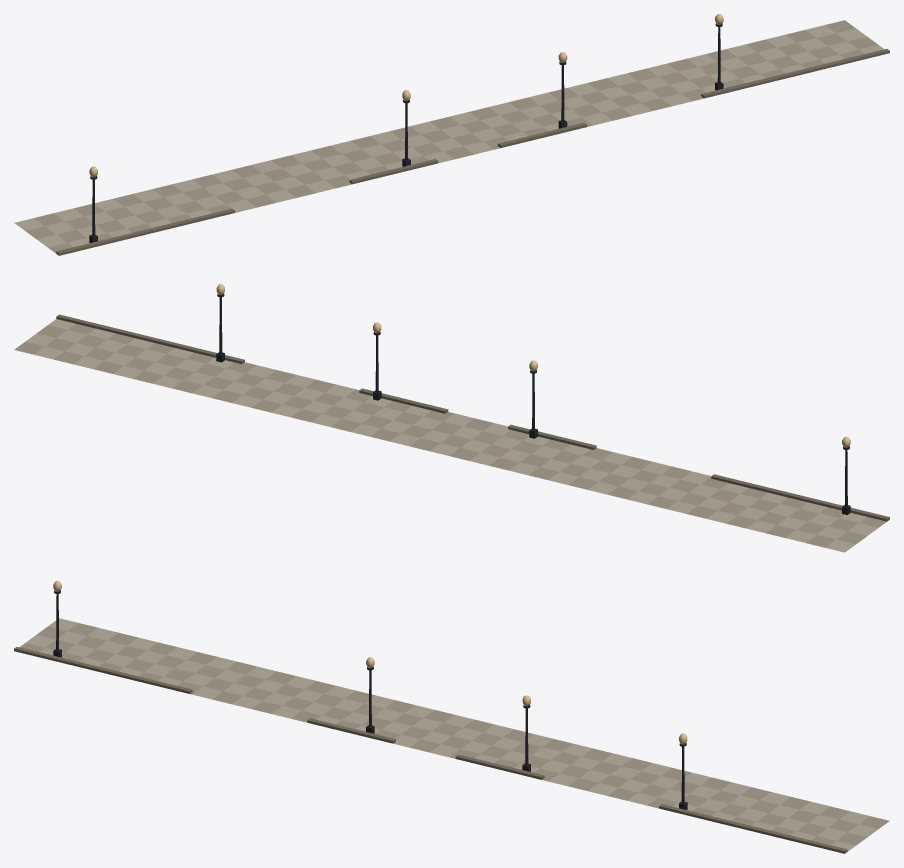
Rendered from street.glb.
3 views of the same model, one above another, from view 1: azimuth 30°, elevation 25°; view 2: azimuth 150°, elevation 25°; view 3: azimuth 330°, elevation 25° (orthographic).
Parts seen in each view (by area): view 1: floor, shell; view 2: floor, shell; view 3: floor, shell.
Part boxes in pixels (bbox=[...]): floor: bbox=[14, 20, 883, 253]; shell: bbox=[56, 23, 889, 255]; floor: bbox=[14, 319, 886, 552]; shell: bbox=[56, 294, 889, 521]; floor: bbox=[20, 618, 889, 851]; shell: bbox=[14, 590, 847, 853].
Bounding box in the file's own units: 42.5 × 3.73 × 4.
